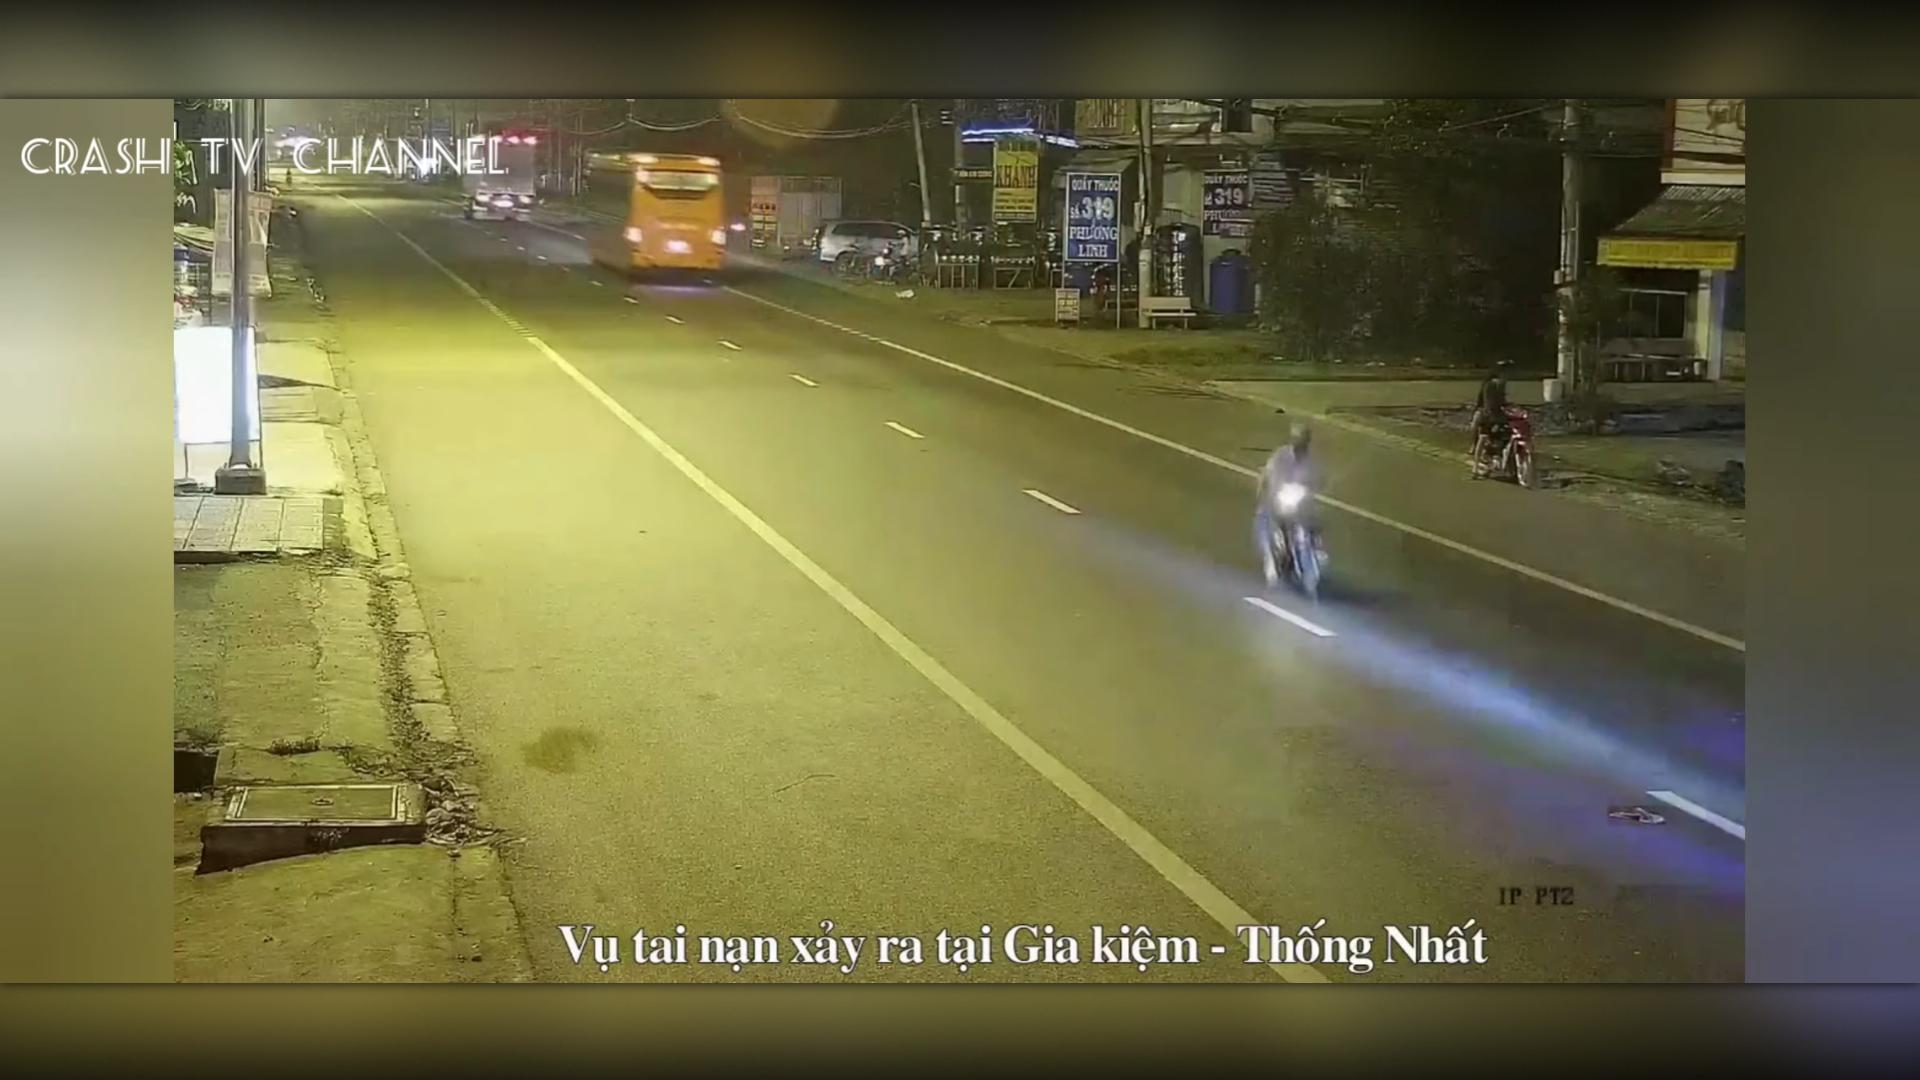bus: (580, 148, 748, 278)
motorcycle: (1228, 411, 1348, 621), (1457, 345, 1551, 492)
